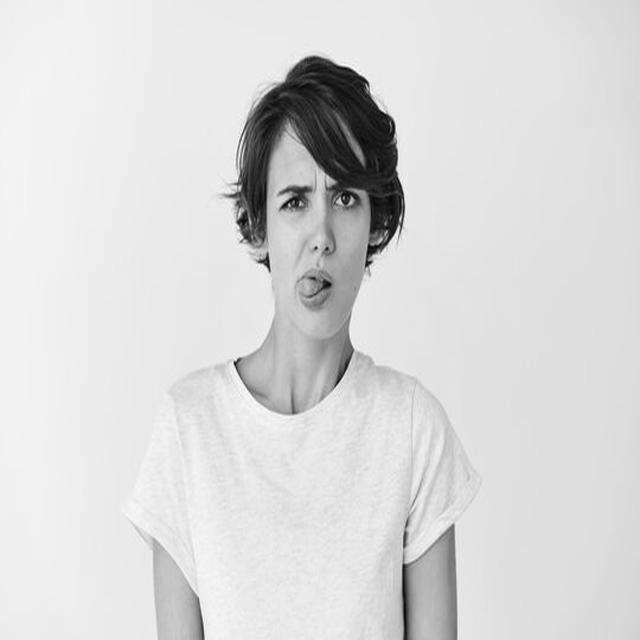Disgust: (267, 125, 372, 340)
